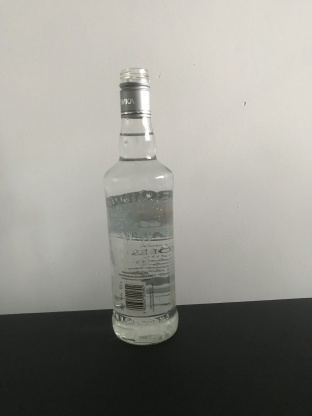nakretka: (117, 64, 153, 119)
